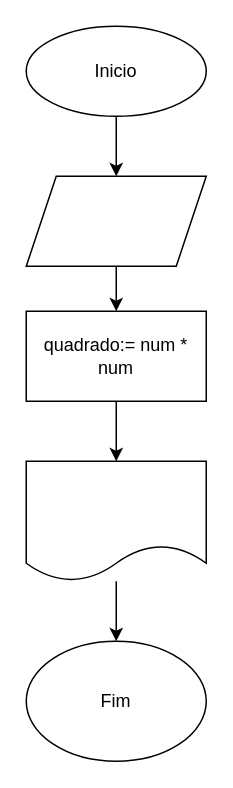
Image size: 233x788. Some labels were removed from this diagram. The shapes that lost their labels are listed below. From the top down, each one's box as (x1, y1, x2, y2) in pixels, then its label:
(25, 175, 206, 266): "Informe um número:", num
(25, 460, 206, 581): "O quadrado do seu número´é:" num
